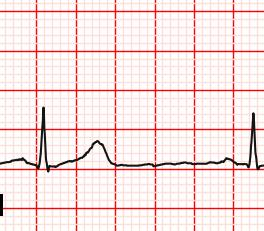LVH: (68, 138, 123, 169)
